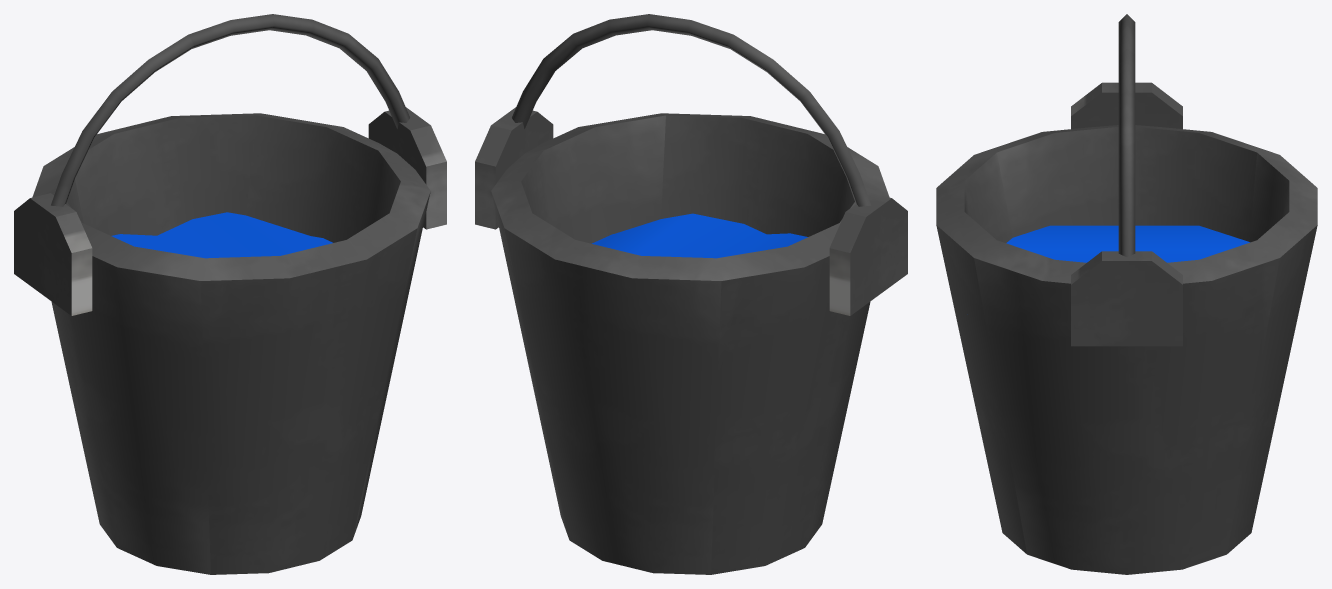
The model's file is FishingBucket.fbx.
The picture shows the model from 3 angles, left to right: view 1: azimuth 30°, elevation 25°; view 2: azimuth 150°, elevation 25°; view 3: azimuth 270°, elevation 25°; orthographic projection. The views are drawn at different scales.
Parts seen in each view (by area): view 1: FishingBucket, Handle, Water; view 2: FishingBucket, Handle, Water; view 3: FishingBucket, Handle, Water.
Part boxes in pixels (<box>): FishingBucket: <box>32,113,430,574</box>; Handle: <box>14,14,446,315</box>; Water: <box>111,212,332,258</box>; FishingBucket: <box>491,113,889,574</box>; Handle: <box>475,14,907,315</box>; Water: <box>592,213,807,258</box>; FishingBucket: <box>936,125,1317,574</box>; Handle: <box>1071,14,1182,346</box>; Water: <box>1006,225,1249,262</box>.
Size of the model in its own units: 0.5262 by 0.6699 by 0.4755.
